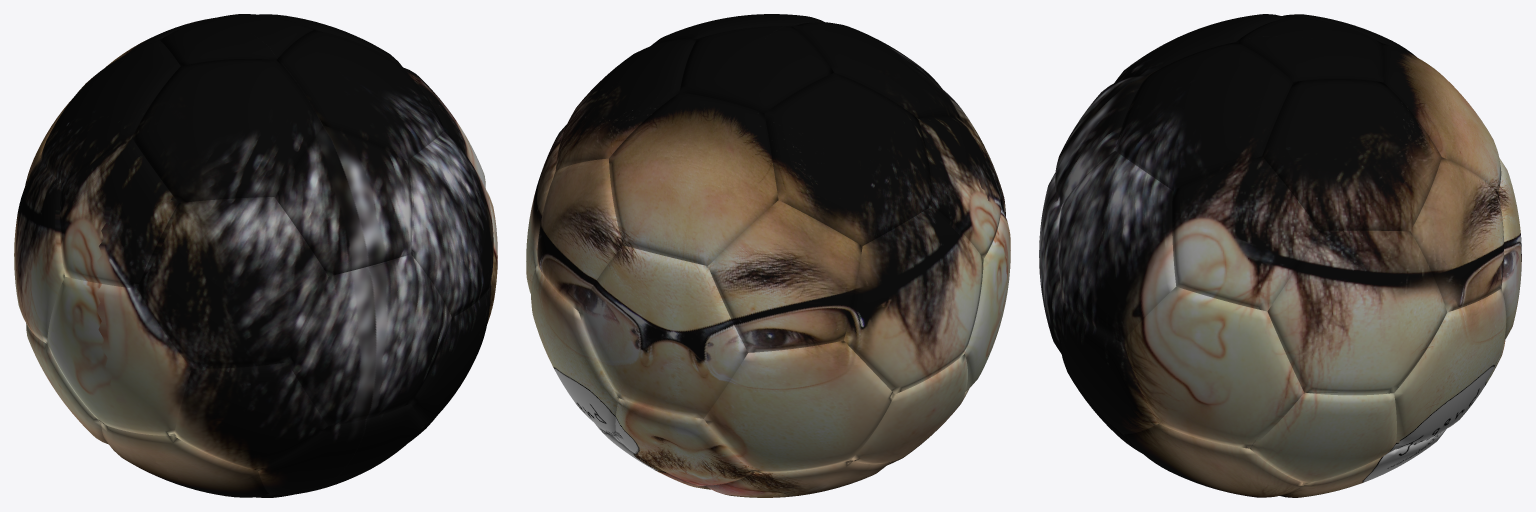
The model's file is test3Dface_patched.glb.
The picture shows the model from 3 angles, left to right: view 1: azimuth 30°, elevation 25°; view 2: azimuth 150°, elevation 25°; view 3: azimuth 270°, elevation 25°; orthographic projection.
Visible parts, largest first — view 1: Solid; view 2: Solid; view 3: Solid.
Part boxes in pixels (<box>): Solid: <box>14,14,497,497</box>; Solid: <box>526,14,1010,497</box>; Solid: <box>1039,14,1521,497</box>.
Bounding box in the file's own units: 1.91 × 1.91 × 1.91.
1 material, 1 textured.
